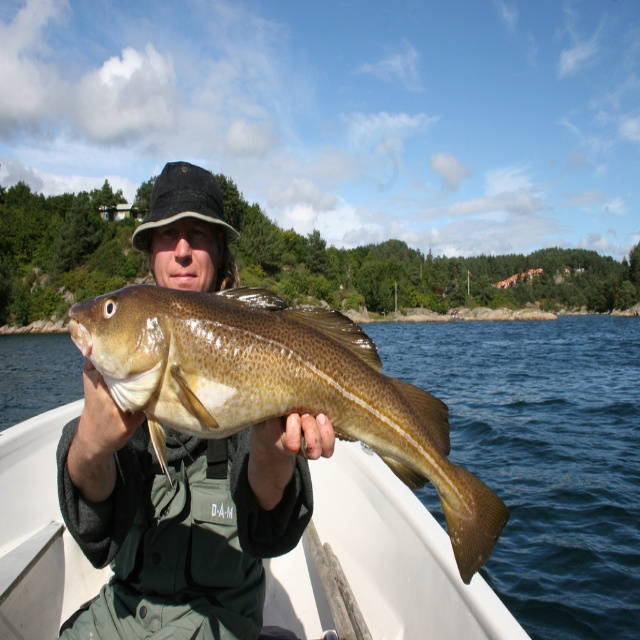Fish: (62, 279, 512, 581)
